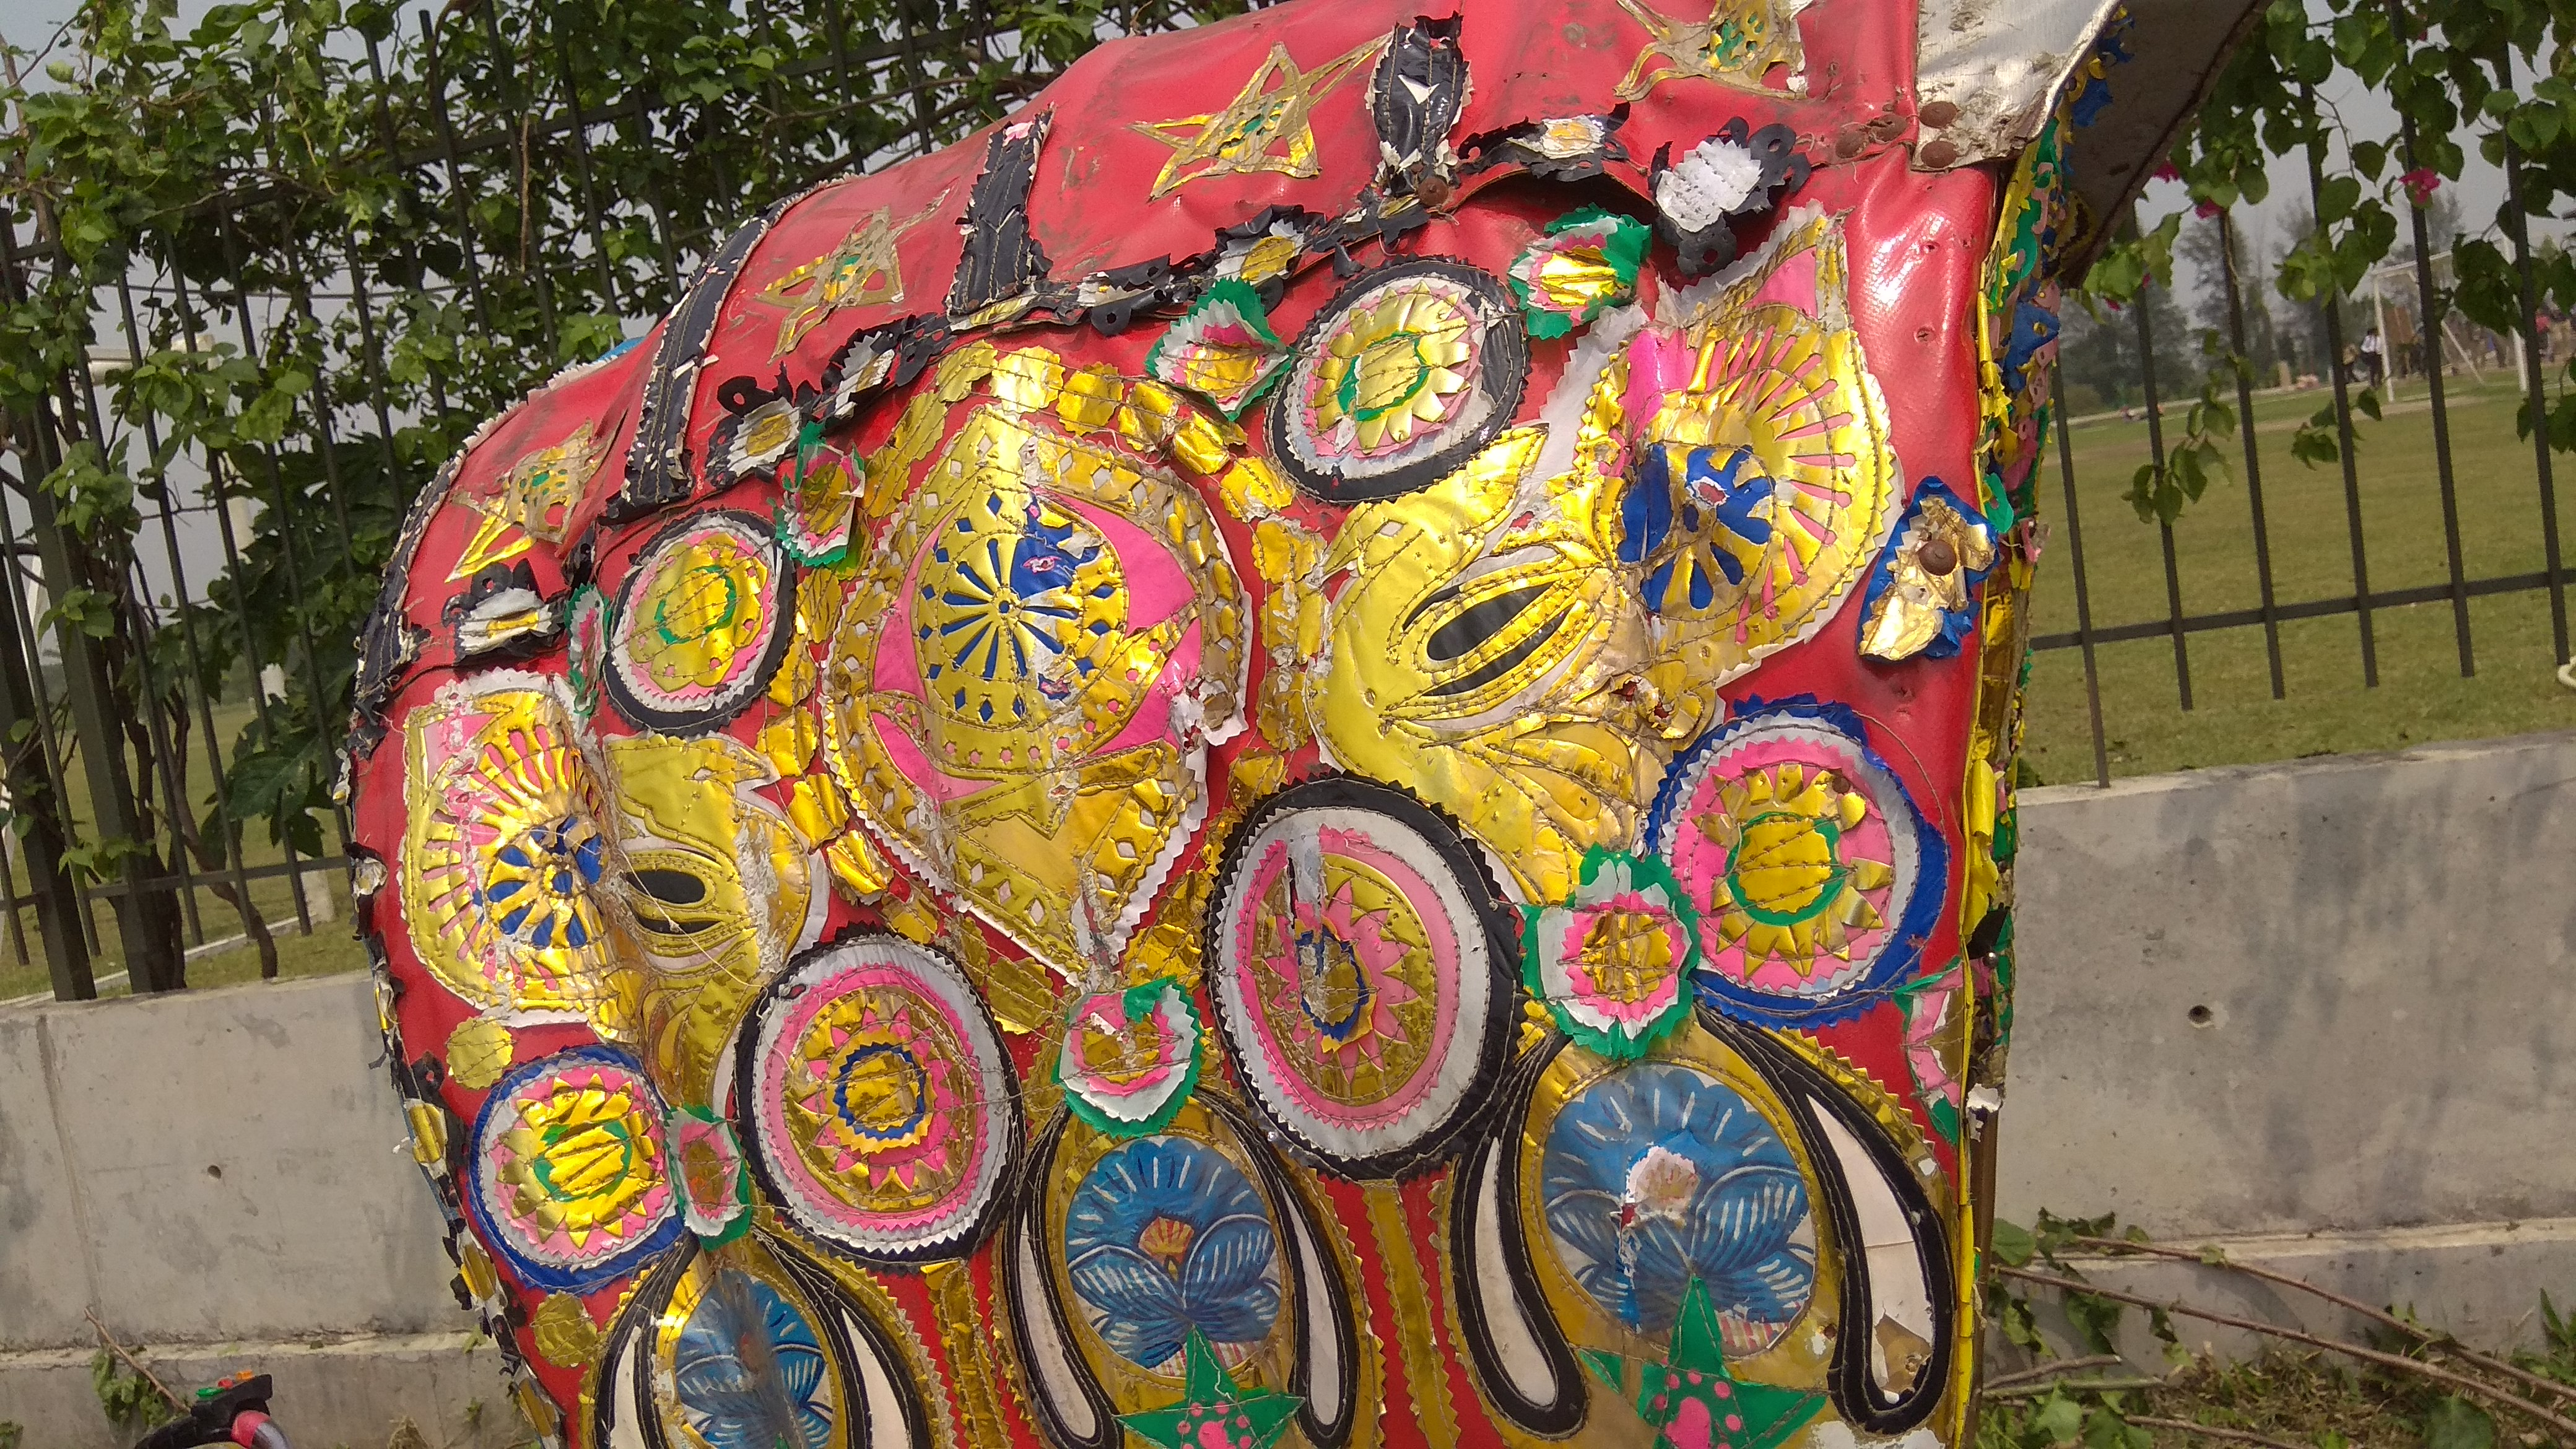Rickshaw: (318, 5, 2104, 1444)
